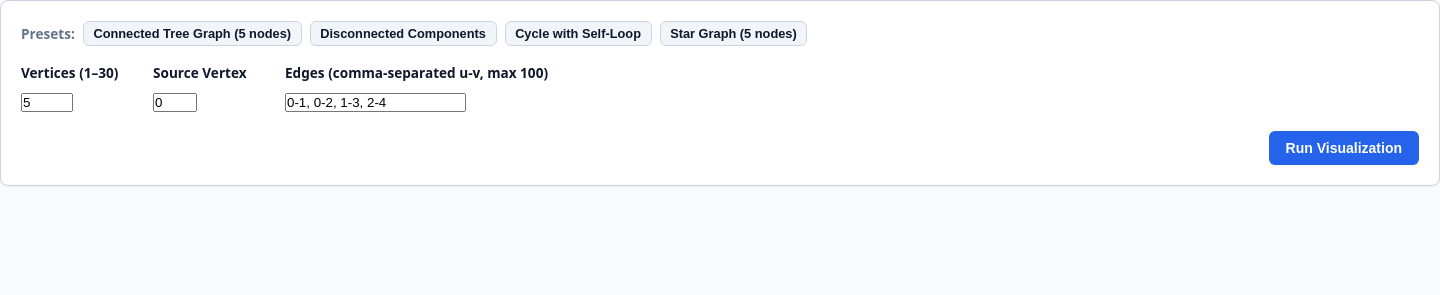
it: GraphVisualizer Component Tests › Graph Input Form Interactions › validates start vertex within [0, vertices - 1]
Replace the text in the number field labelled "Source Vertex" with "99" at [175, 103], box top-left (153, 93), bottom-right (197, 112)
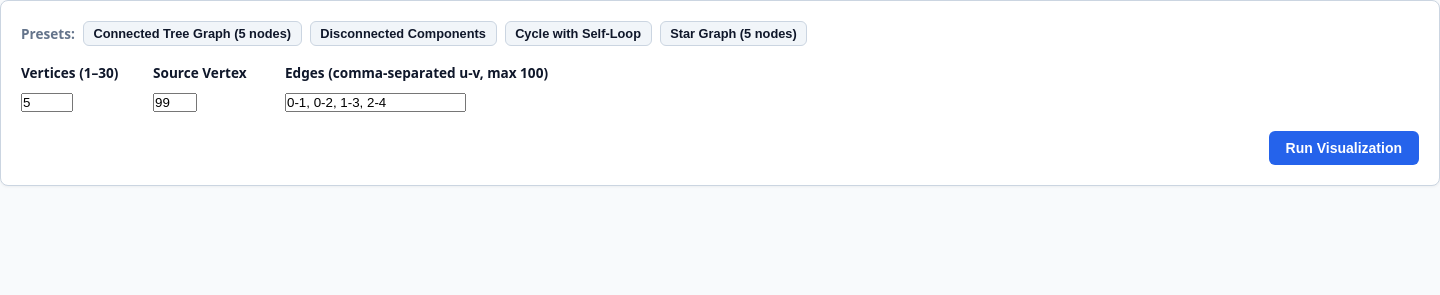
Click the button "Run Visualization".
click(1344, 148)  # box top-left (1269, 131), bottom-right (1419, 165)
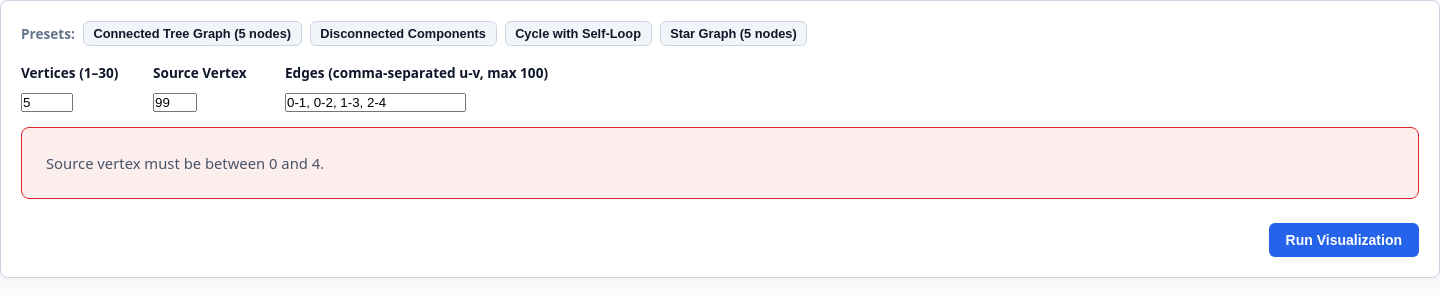
Expected: the message shows "Source vertex must be between 0 and 4", top-left (46, 153), bottom-right (324, 173)
